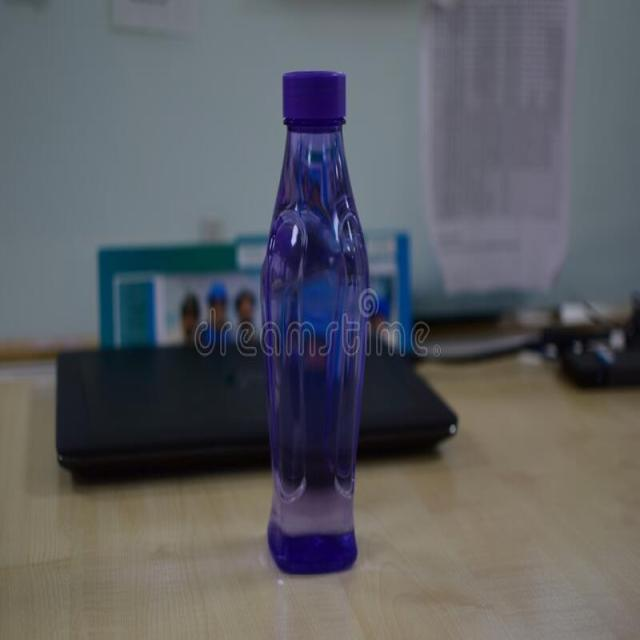bottle: (255, 58, 382, 584)
